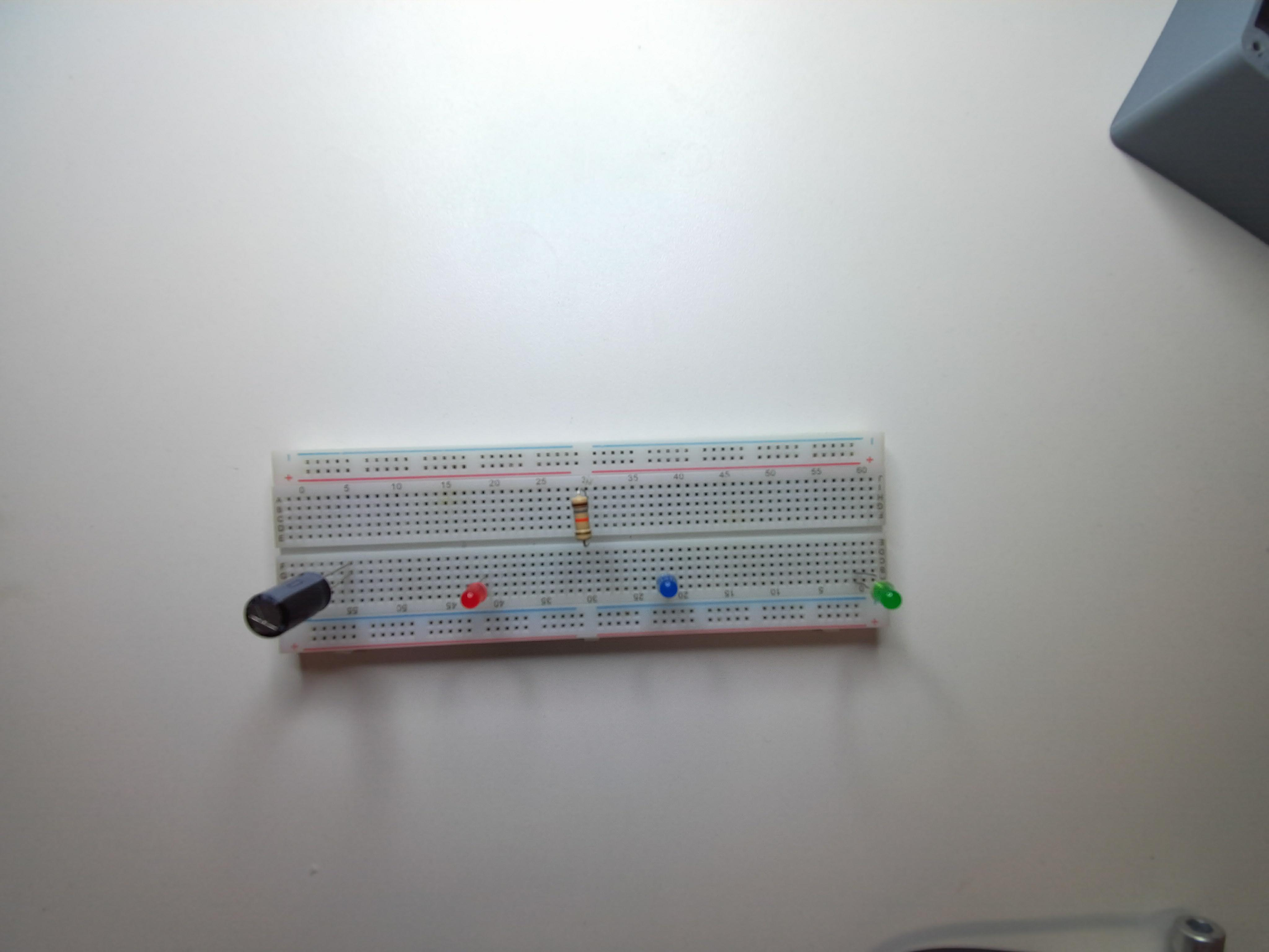base: (265, 433, 900, 653)
blue-led: (658, 575, 678, 599)
capacitor: (243, 572, 339, 649)
green-led: (864, 577, 904, 614)
red-led: (460, 582, 488, 609)
resistor-big: (572, 491, 593, 543)
